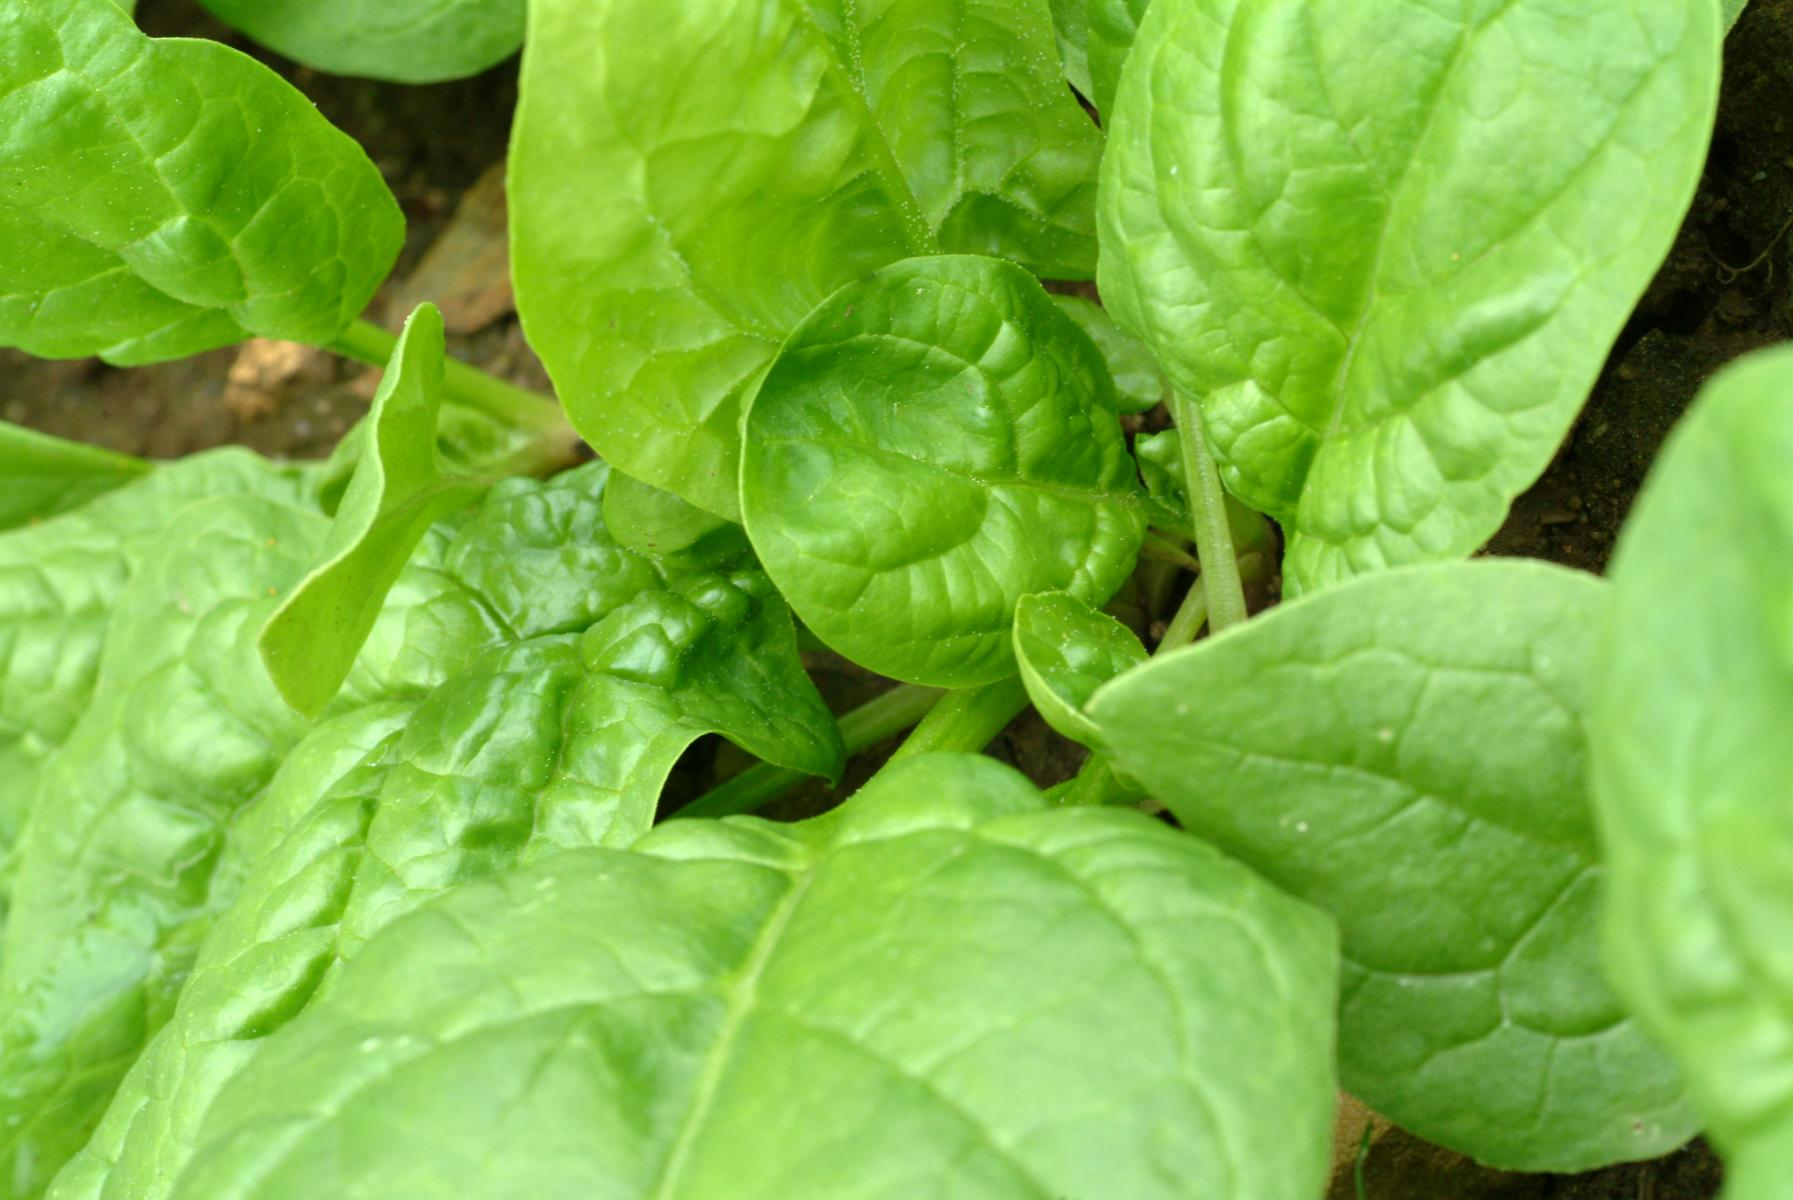spinach: (4, 1, 1784, 1196)
